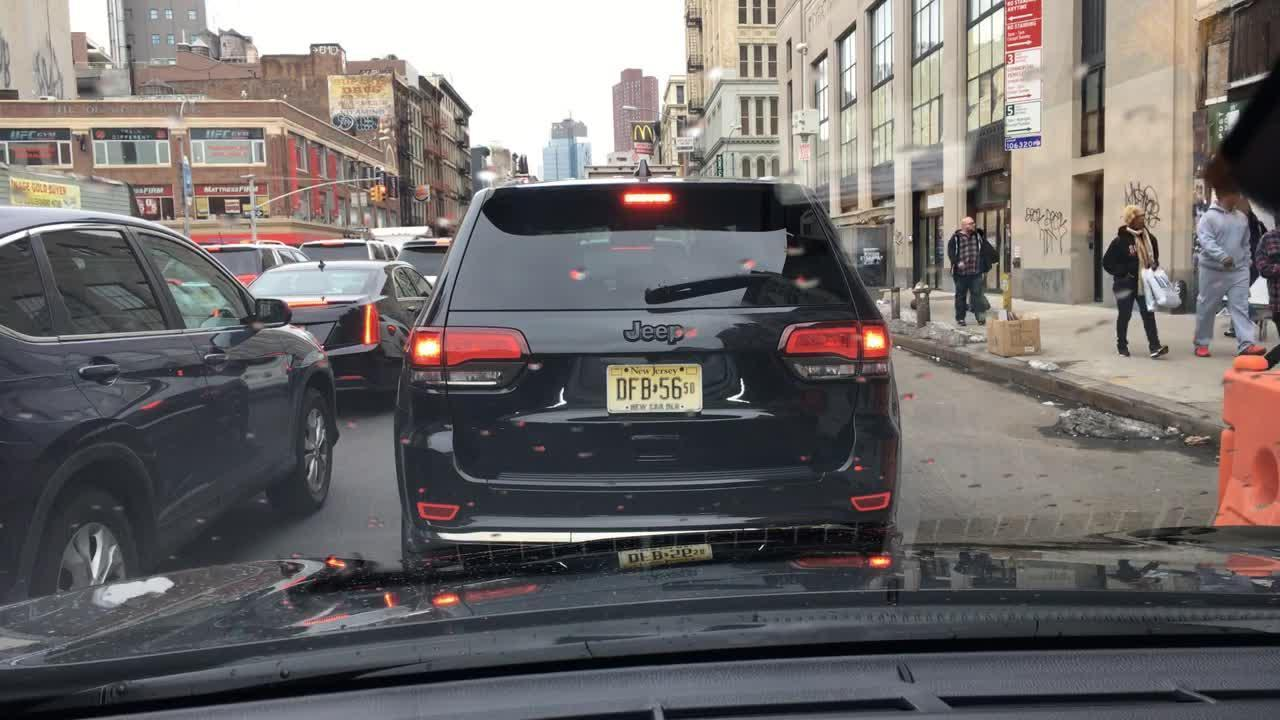jeep: (617, 318, 690, 350)
